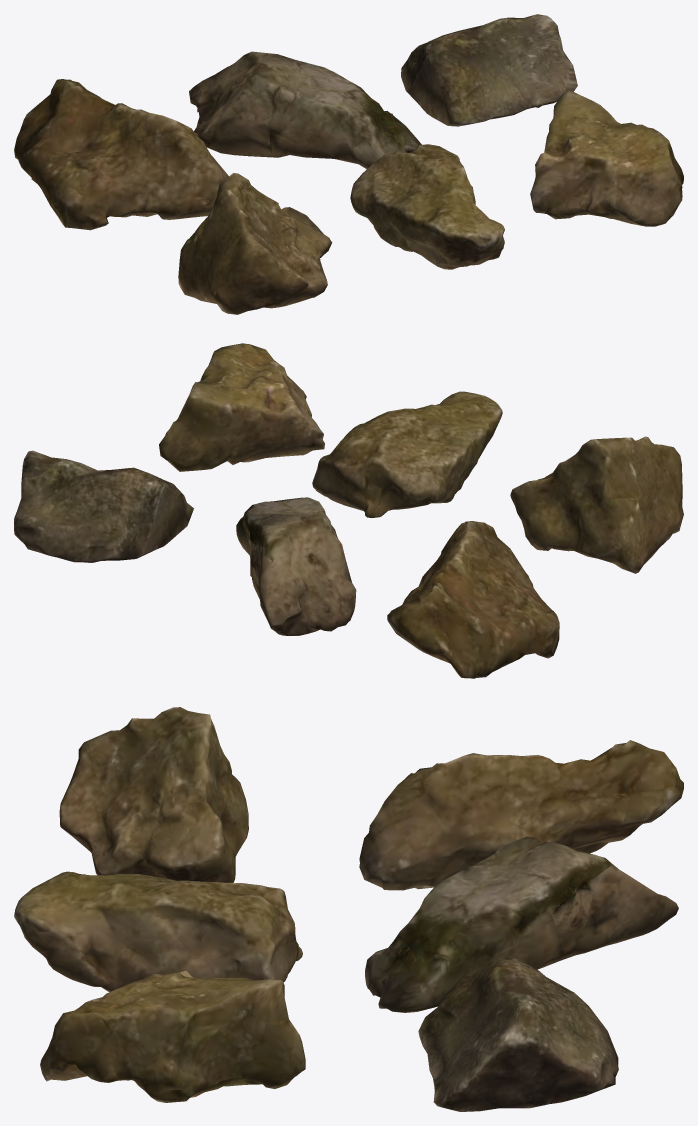
The model's file is rocks.glb.
3 renders of one model, top to bottom at view 1: azimuth 30°, elevation 25°; view 2: azimuth 150°, elevation 25°; view 3: azimuth 270°, elevation 25°, orthographic. The views are drawn at different scales.
Parts seen in each view (by area): view 1: rock_moss_set_01_rock01, rock_moss_set_01_rock02, rock_moss_set_01_rock06, rock_moss_set_01_rock04, rock_moss_set_01_rock03, rock_moss_set_01_rock05; view 2: rock_moss_set_01_rock04, rock_moss_set_01_rock01, rock_moss_set_01_rock05, rock_moss_set_01_rock03, rock_moss_set_01_rock06, rock_moss_set_01_rock02; view 3: rock_moss_set_01_rock01, rock_moss_set_01_rock02, rock_moss_set_01_rock05, rock_moss_set_01_rock04, rock_moss_set_01_rock06, rock_moss_set_01_rock03.
Boxes of the visible parts, x1=… form: rock_moss_set_01_rock01: x1=14, y1=79, x2=228, y2=230; rock_moss_set_01_rock02: x1=189, y1=51, x2=421, y2=169; rock_moss_set_01_rock06: x1=530, y1=89, x2=683, y2=226; rock_moss_set_01_rock04: x1=178, y1=173, x2=332, y2=314; rock_moss_set_01_rock03: x1=401, y1=14, x2=577, y2=126; rock_moss_set_01_rock05: x1=350, y1=144, x2=504, y2=269; rock_moss_set_01_rock04: x1=510, y1=436, x2=683, y2=573; rock_moss_set_01_rock01: x1=387, y1=521, x2=559, y2=678; rock_moss_set_01_rock05: x1=312, y1=391, x2=502, y2=517; rock_moss_set_01_rock03: x1=14, y1=450, x2=193, y2=562; rock_moss_set_01_rock06: x1=159, y1=343, x2=324, y2=471; rock_moss_set_01_rock02: x1=236, y1=497, x2=356, y2=635; rock_moss_set_01_rock01: x1=359, y1=740, x2=683, y2=890; rock_moss_set_01_rock02: x1=365, y1=836, x2=678, y2=1012; rock_moss_set_01_rock05: x1=14, y1=871, x2=302, y2=991; rock_moss_set_01_rock04: x1=59, y1=707, x2=248, y2=882; rock_moss_set_01_rock06: x1=40, y1=970, x2=305, y2=1102; rock_moss_set_01_rock03: x1=418, y1=956, x2=618, y2=1111.
Size of the model in its own units: 8 by 1.76 by 6.94.
1 material, 1 textured.
